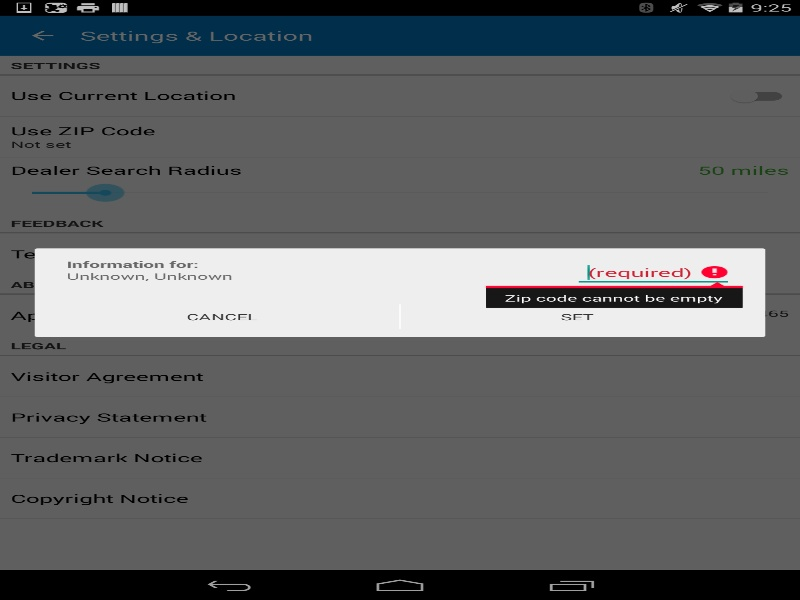Button: (45, 301, 399, 331), (400, 301, 754, 331)
Input: (573, 258, 733, 286)
